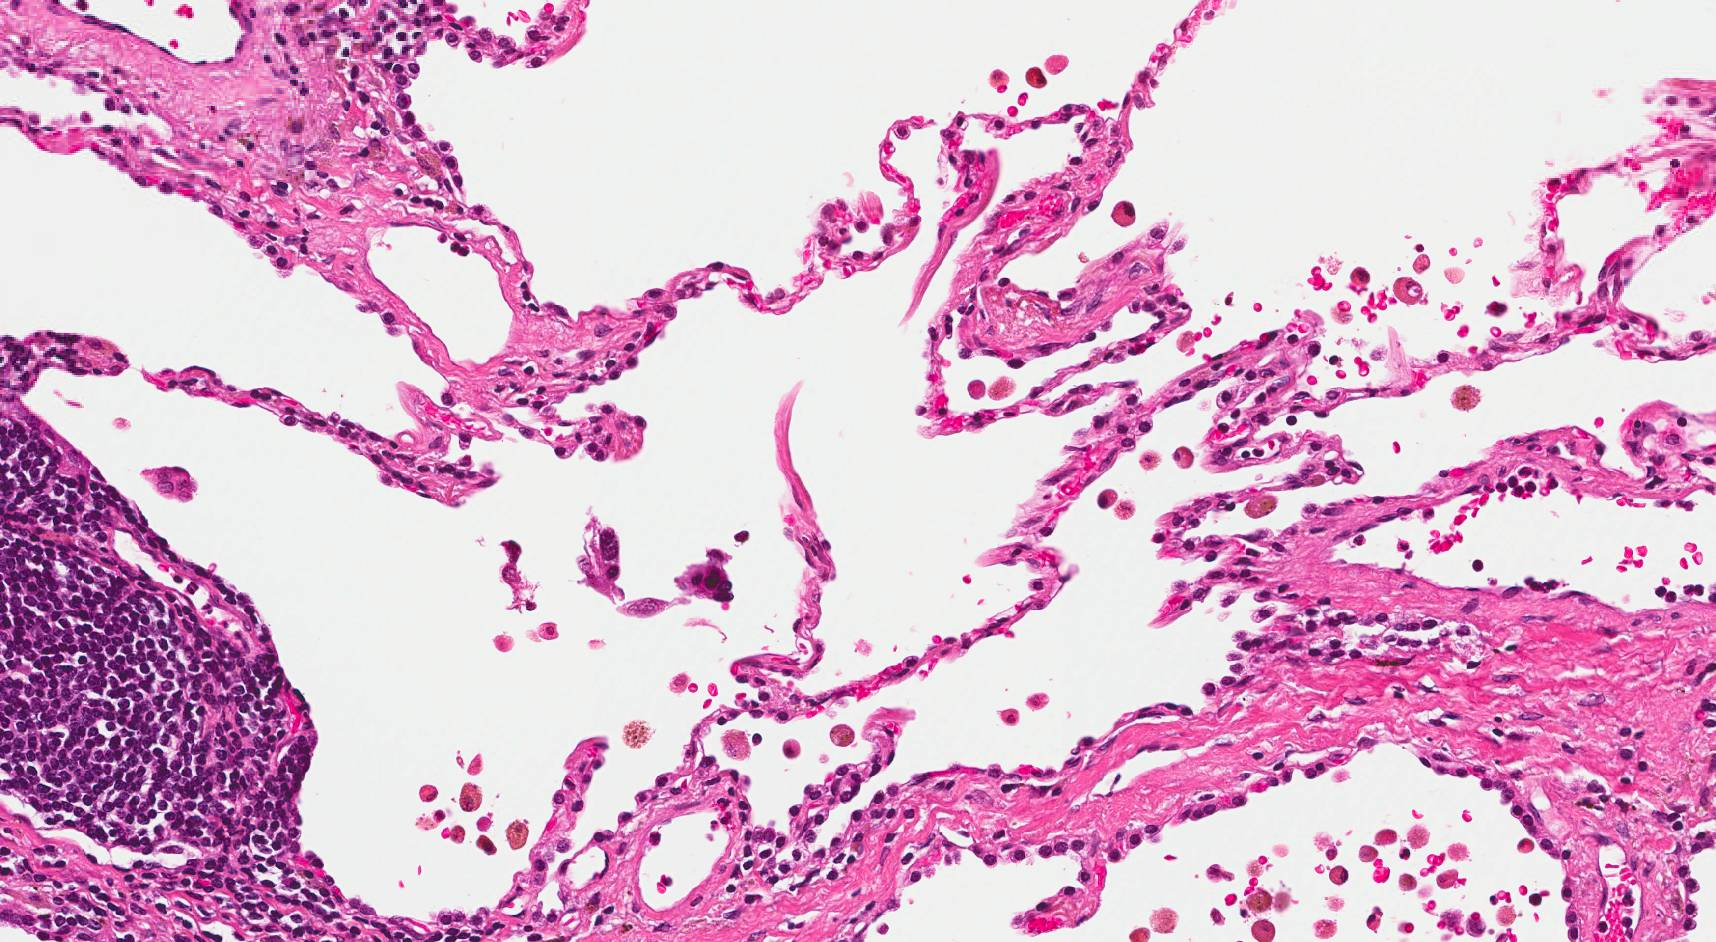stas: (574, 521, 625, 602), (674, 549, 735, 607), (497, 545, 535, 613), (139, 463, 199, 504), (613, 598, 674, 618)
